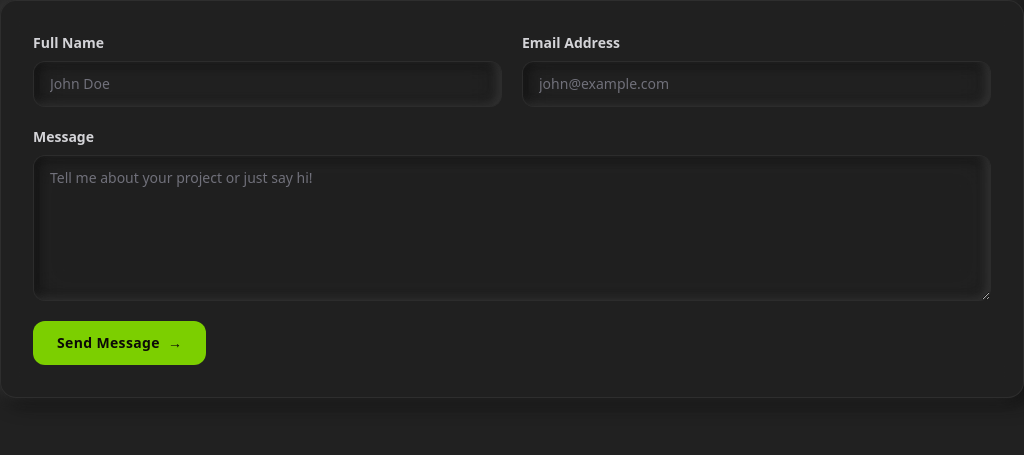
shows an error when required fields are missing
This screenshot has width=1024, height=455.
Click the button with test id "contactFormSubmit" at (120, 343), box x1=33 y1=321 x2=206 y2=365
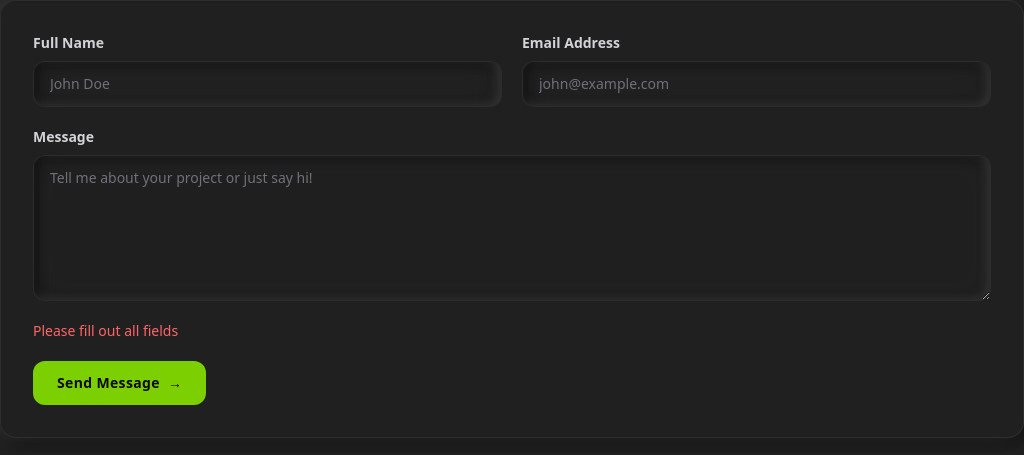
Now the text "Please fill out all fields" is shown, box x1=33 y1=321 x2=178 y2=340
